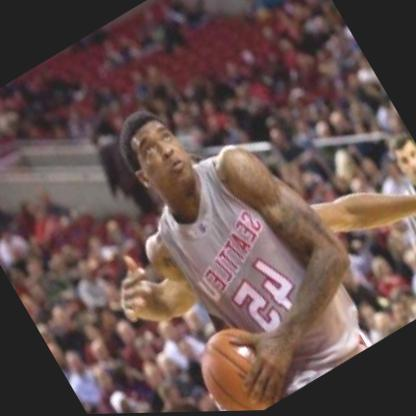basketball: (180, 309, 296, 413)
